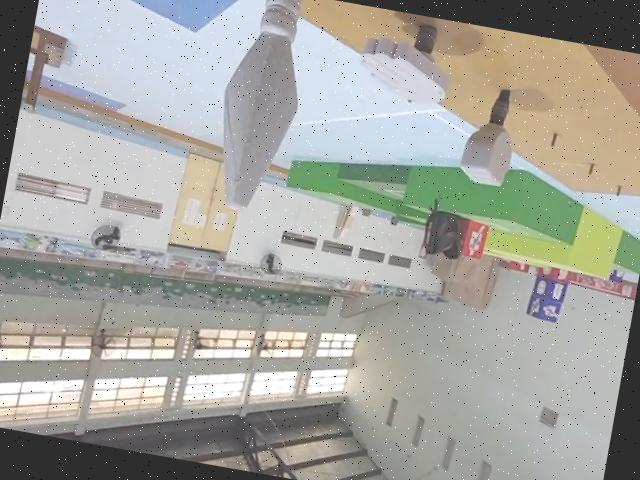Fist: (451, 79, 525, 189)
Hand: (352, 9, 457, 110)
Sph: (202, 0, 319, 215)
